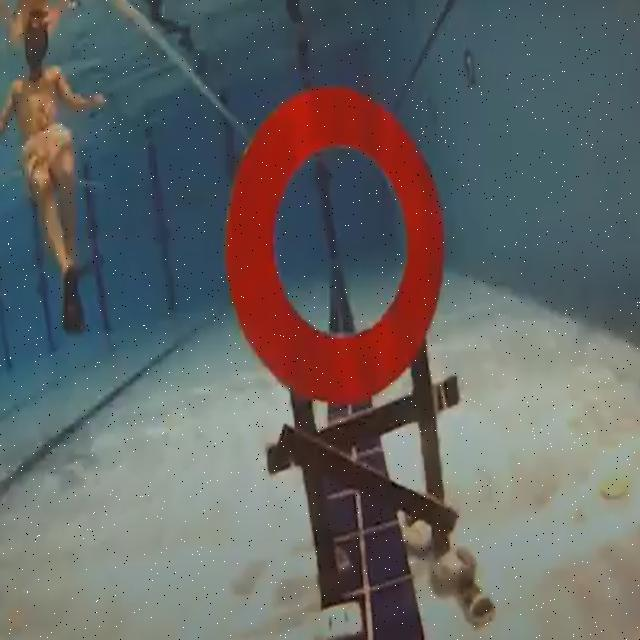Circle: (224, 88, 446, 409)
